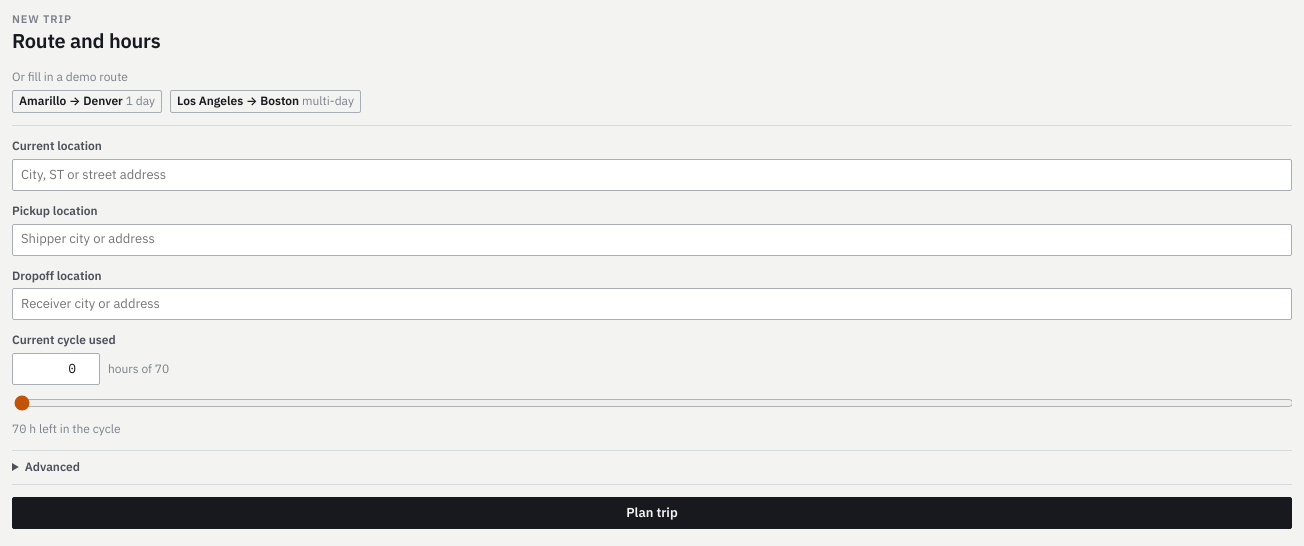
TripForm › binds the number and slider and shows the hours left
The width and height of the screenshot is (1304, 546).
Set the slider named "Current cycle used, slider" to "42.5". click: (788, 403)
box: top-left (14, 395), bottom-right (1292, 411)
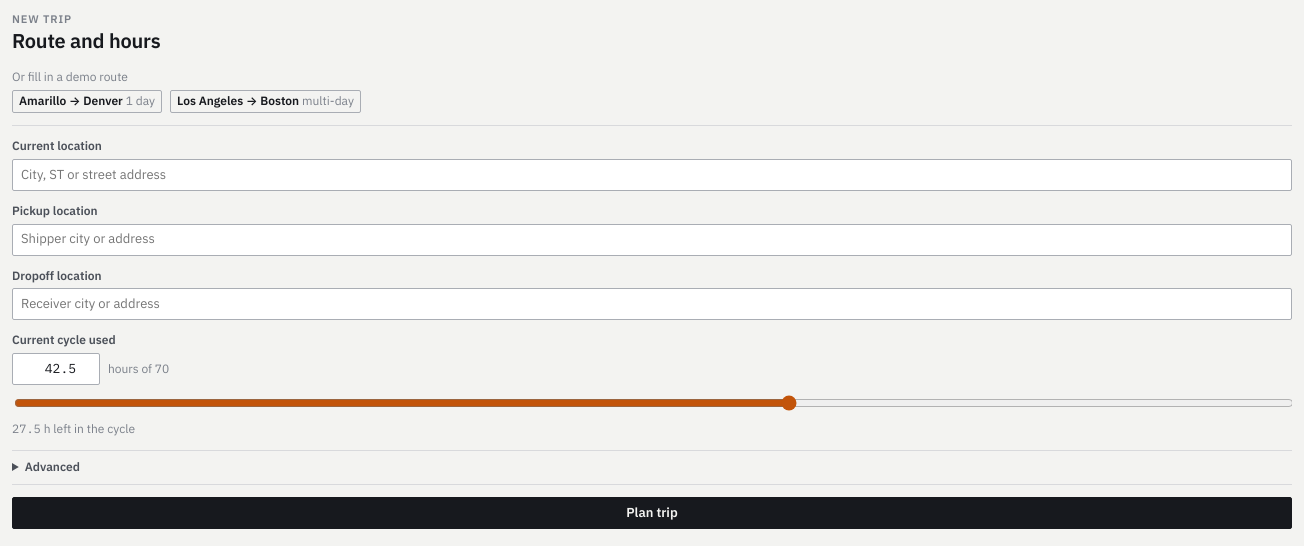
Result: the number field labelled "Current cycle used" holds "42.5" at top-left (12, 353), bottom-right (100, 385)
Result: the text "27.5" reads "27.5 h left in the cycle" at top-left (12, 421), bottom-right (135, 436)
